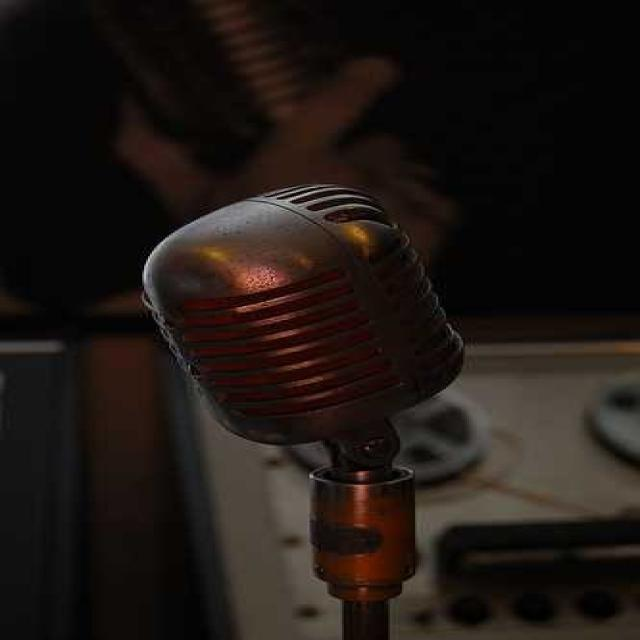microphone: (140, 191, 465, 640)
